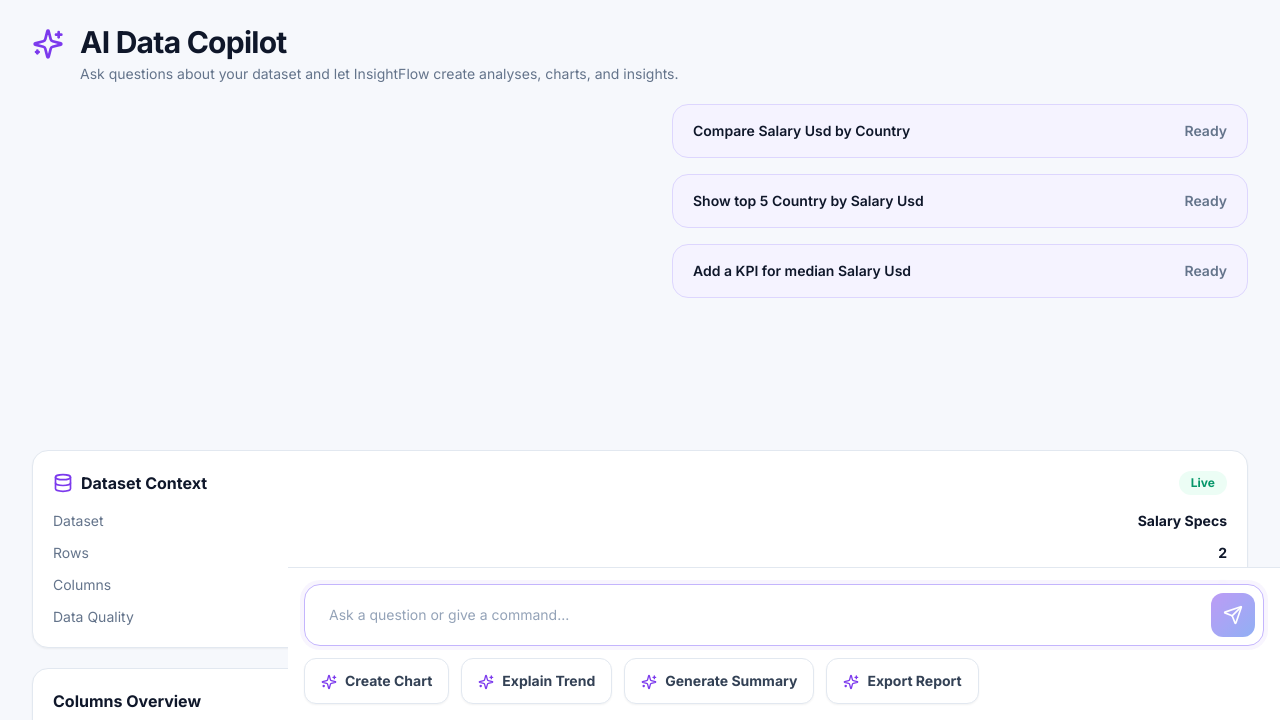
Test case: ChatPage Schema-Only › shows clean validation errors when query references columns missing from schema
Step 1. Type "Show average revenue by country" into the field named "Ask InsightFlow Copilot a question or command" → (758, 615), box top-left (313, 593), bottom-right (1203, 637)
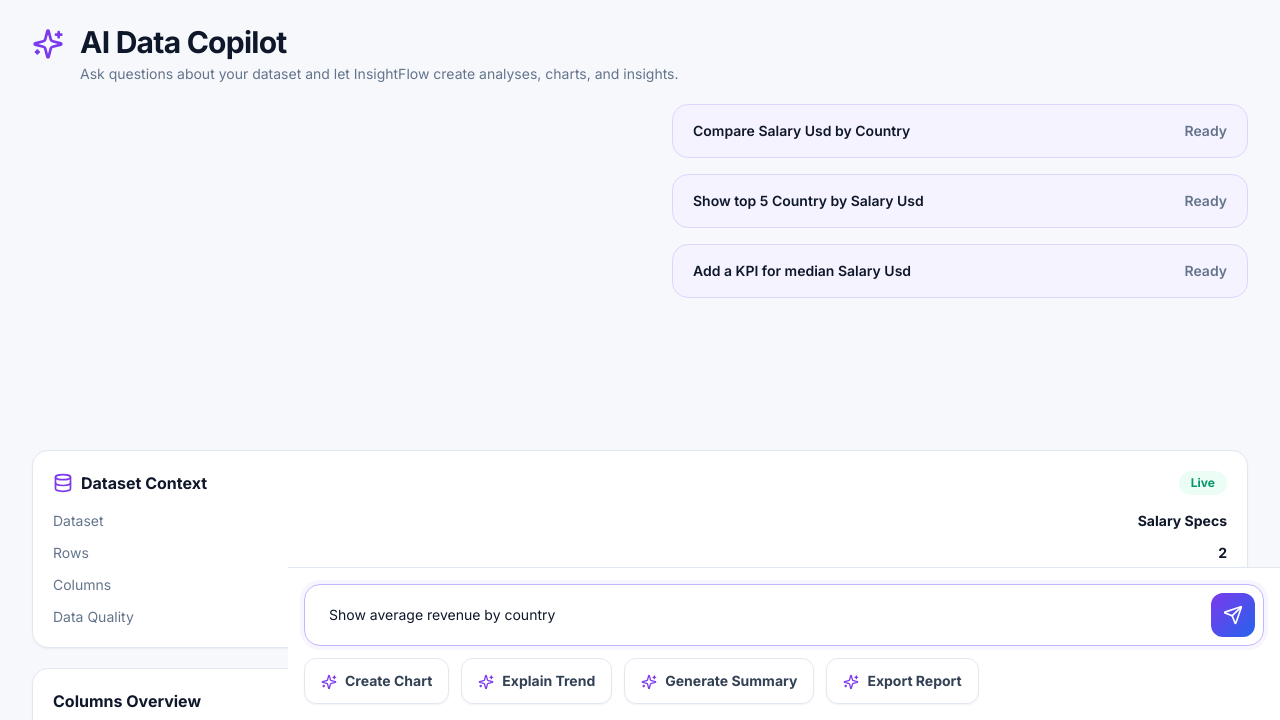
Step 2. Press Enter in the field named "Ask InsightFlow Copilot a question or command", box top-left (313, 593), bottom-right (1203, 637)
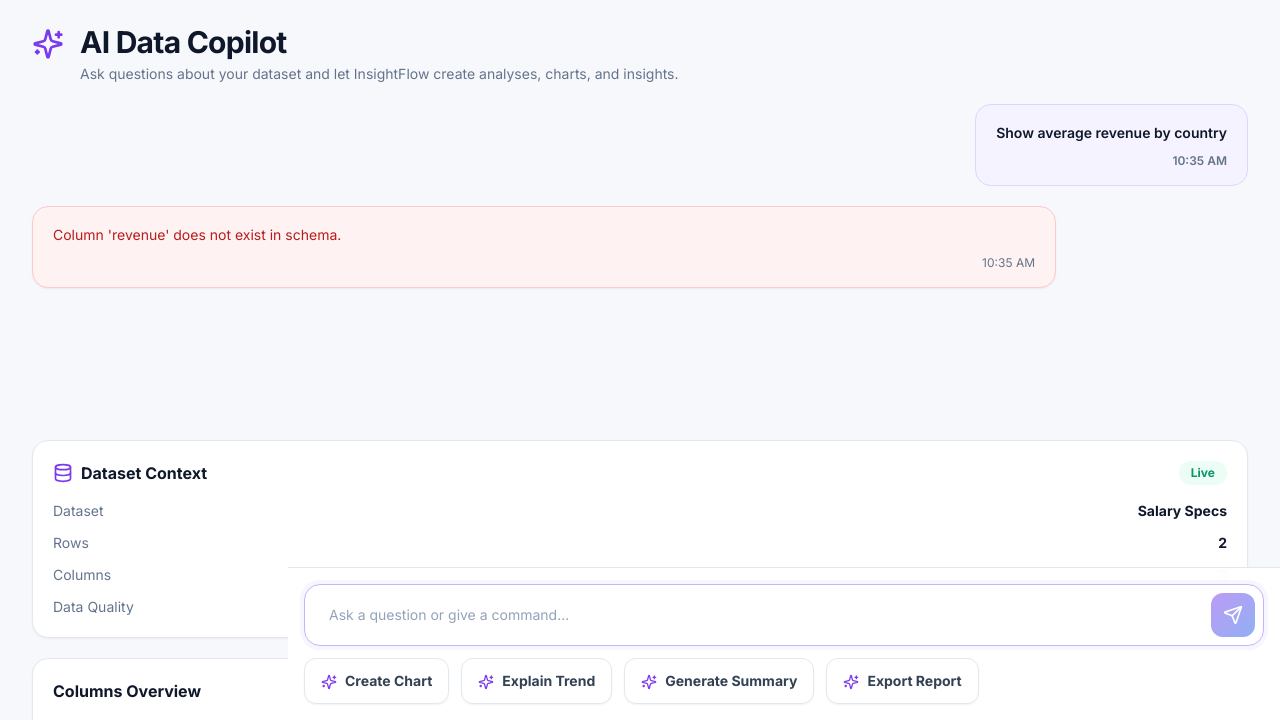
Expected: the text "Column 'revenue' does not exist in schema." is shown, top-left (53, 226), bottom-right (341, 243)
